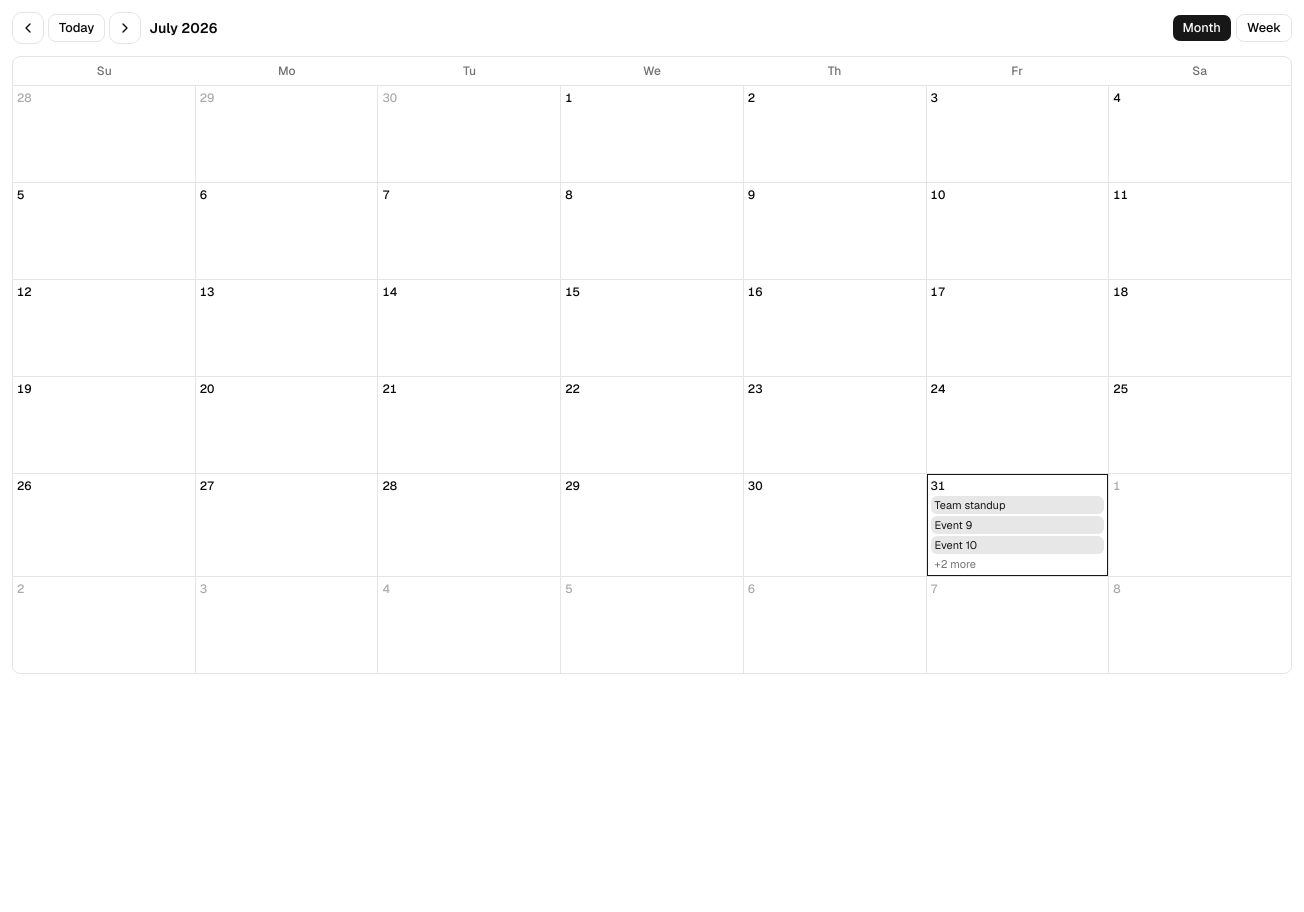
Test: EventCalendar month view › +N more switches to the week view for that day
The width and height of the screenshot is (1304, 912).
Click the button "+2 more". click: (1017, 564)
box: [931, 556, 1104, 572]
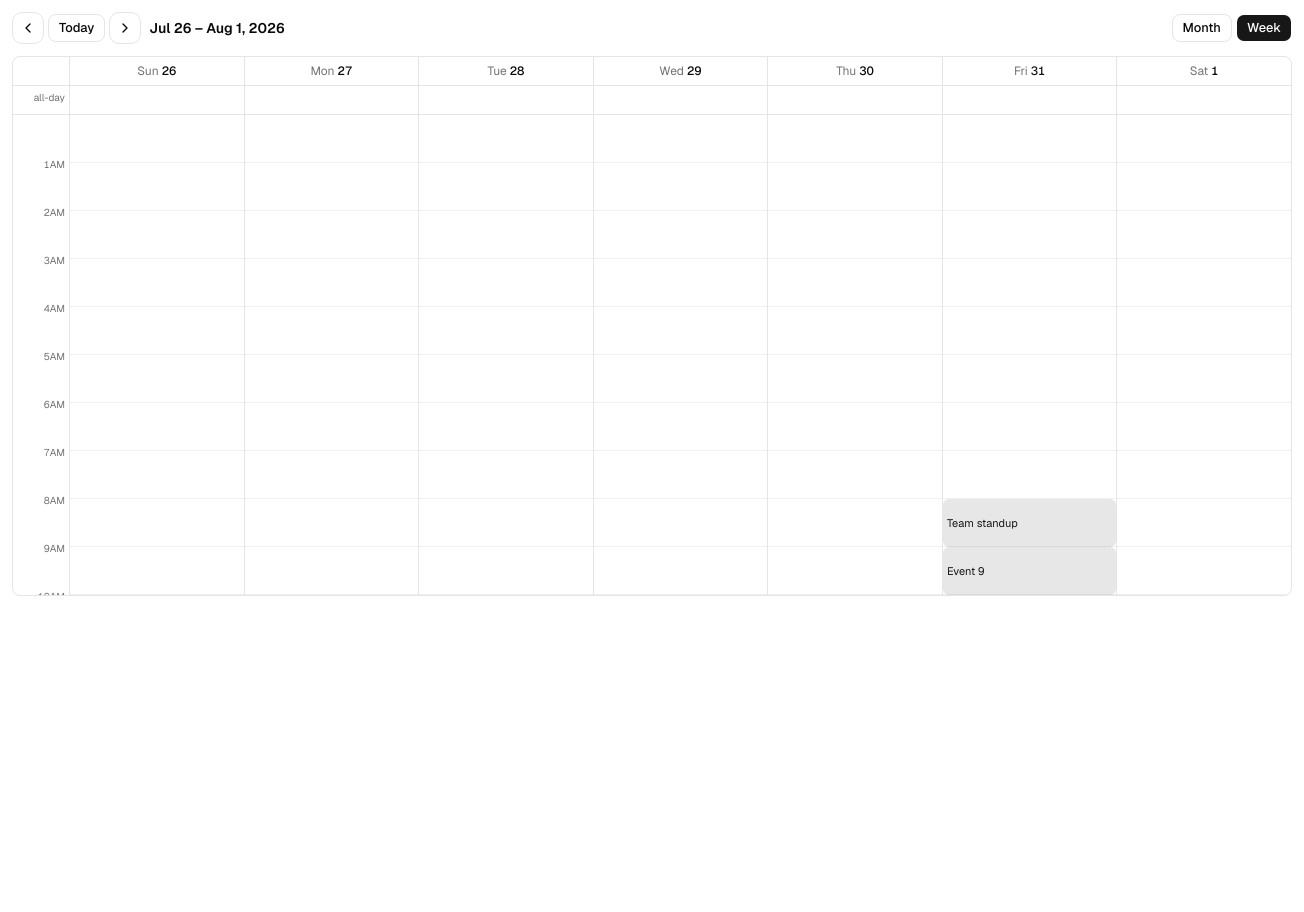
Result: the table is shown at [12, 56, 1292, 596]
